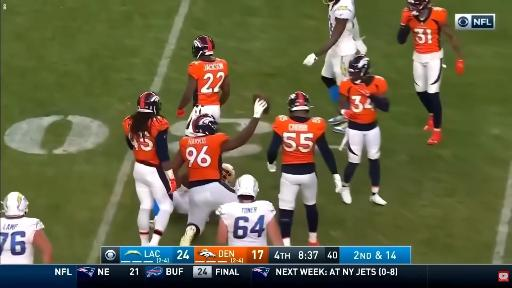Helmet: (2, 192, 28, 217), (347, 54, 370, 82), (192, 114, 217, 136), (235, 175, 258, 197), (138, 92, 161, 114), (192, 35, 214, 58), (288, 92, 310, 111), (408, 0, 430, 15), (222, 164, 235, 185), (323, 0, 335, 4)
Jersey: (217, 201, 275, 246), (273, 116, 326, 164), (180, 133, 228, 181), (123, 116, 169, 165), (340, 76, 387, 123), (401, 7, 447, 53), (0, 217, 44, 264), (188, 58, 227, 105), (329, 0, 356, 55)
Player: (172, 99, 267, 245), (267, 92, 341, 245), (398, 0, 463, 144), (123, 92, 175, 245), (339, 55, 389, 205), (304, 0, 366, 103), (177, 35, 230, 135), (216, 175, 283, 246), (0, 192, 52, 264), (170, 174, 188, 214)
